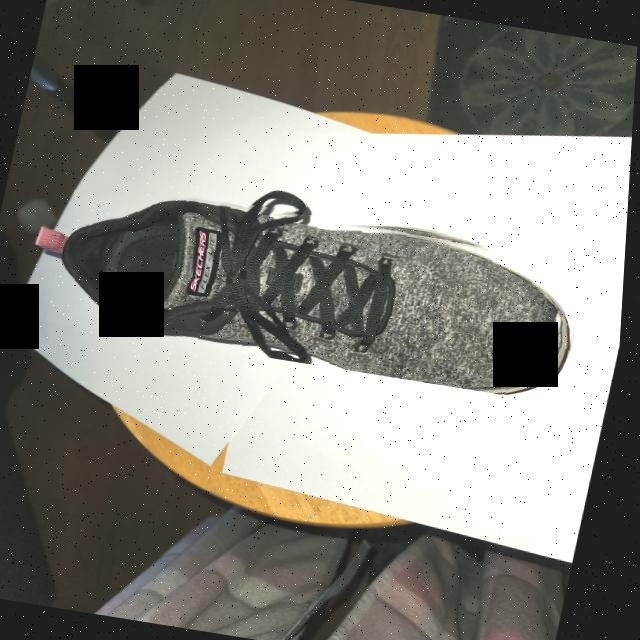shoe: (46, 173, 601, 405)
